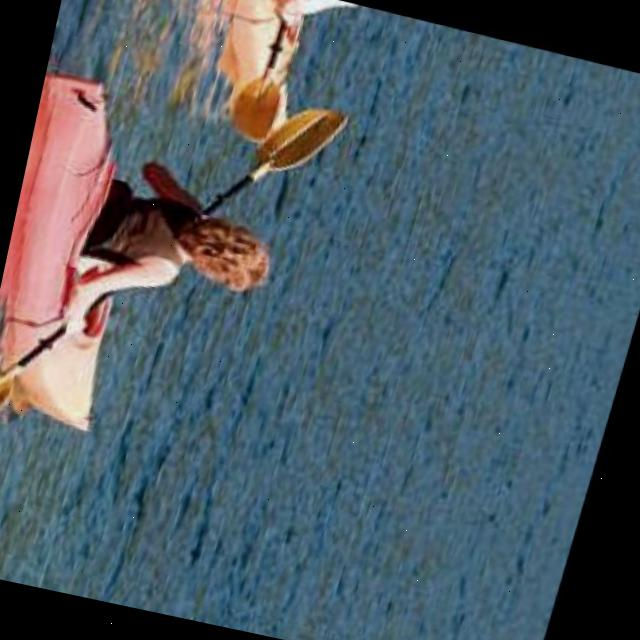kayak: (2, 75, 118, 431), (222, 0, 300, 89)
